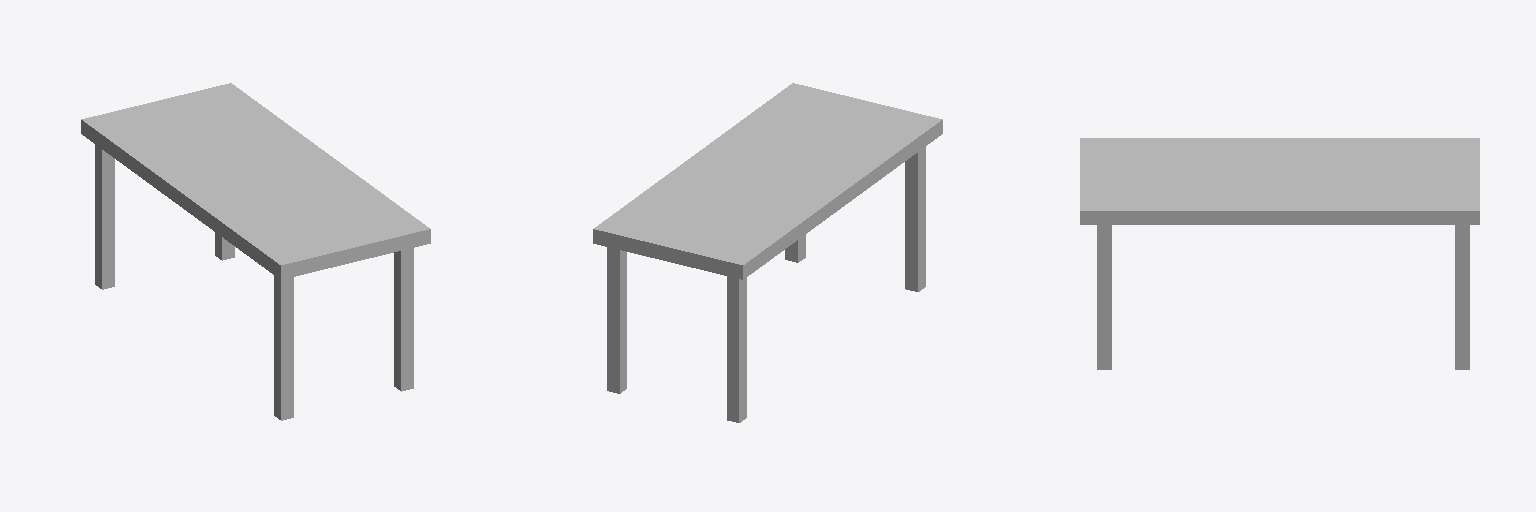
The model's file is table.obj.
3 renders of one model, left to right at view 1: azimuth 30°, elevation 25°; view 2: azimuth 150°, elevation 25°; view 3: azimuth 270°, elevation 25°, orthographic.
Parts seen in each view (by area): view 1: Cube, Cube.002, Cube.001, Cube.004; view 2: Cube, Cube.002, Cube.004, Cube.003; view 3: Cube, Cube.001, Cube.003.
Boxes of the visible parts, <box> form: Cube: <box>81,83,430,279</box>; Cube.002: <box>274,275,293,420</box>; Cube.001: <box>394,248,413,391</box>; Cube.004: <box>95,144,114,289</box>; Cube: <box>593,83,942,279</box>; Cube.002: <box>905,147,925,291</box>; Cube.004: <box>727,276,746,422</box>; Cube.003: <box>607,247,626,393</box>; Cube: <box>1080,138,1479,224</box>; Cube.001: <box>1097,225,1111,369</box>; Cube.003: <box>1455,225,1469,369</box>.
Size of the model in its own units: 2 by 2.08 by 4.61.